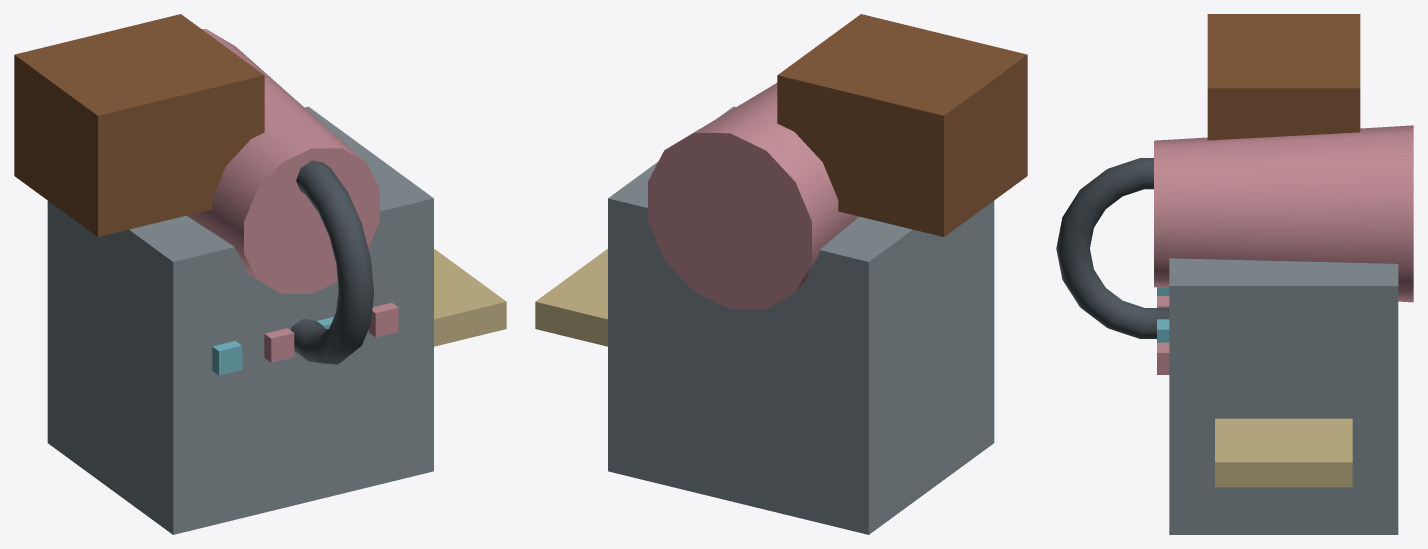
Rendered from dehydrator.glb.
The picture shows the model from 3 angles, left to right: view 1: azimuth 30°, elevation 25°; view 2: azimuth 150°, elevation 25°; view 3: azimuth 270°, elevation 25°; orthographic projection. The views are drawn at different scales.
Visible parts, largest first — view 1: machine_body, input_hopper, machine_core, wheel, output_tray, control_0, control_1, control_3; view 2: machine_body, input_hopper, machine_core, output_tray; view 3: machine_body, machine_core, input_hopper, output_tray, wheel, control_3.
Part boxes in pixels (bbox=[...]): machine_body: bbox=[47, 106, 433, 534]; input_hopper: bbox=[14, 14, 264, 236]; machine_core: bbox=[187, 29, 379, 293]; wheel: bbox=[291, 160, 373, 364]; output_tray: bbox=[434, 249, 506, 346]; control_0: bbox=[212, 341, 242, 375]; control_1: bbox=[264, 328, 294, 362]; control_3: bbox=[368, 302, 398, 337]; machine_body: bbox=[608, 106, 994, 534]; input_hopper: bbox=[777, 14, 1027, 236]; machine_core: bbox=[648, 83, 858, 309]; output_tray: bbox=[535, 249, 607, 346]; machine_body: bbox=[1169, 258, 1398, 534]; machine_core: bbox=[1154, 125, 1413, 302]; input_hopper: bbox=[1207, 14, 1360, 140]; output_tray: bbox=[1215, 418, 1352, 487]; wheel: bbox=[1056, 158, 1169, 338]; control_3: bbox=[1157, 342, 1169, 374].
Size of what is drawn, in the model's own units: 2.85 by 2.75 by 2.34.
